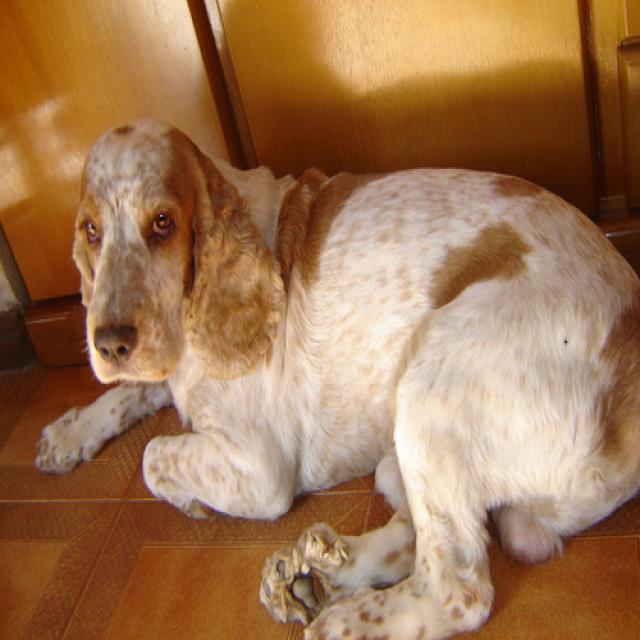dog: (72, 118, 284, 382)
